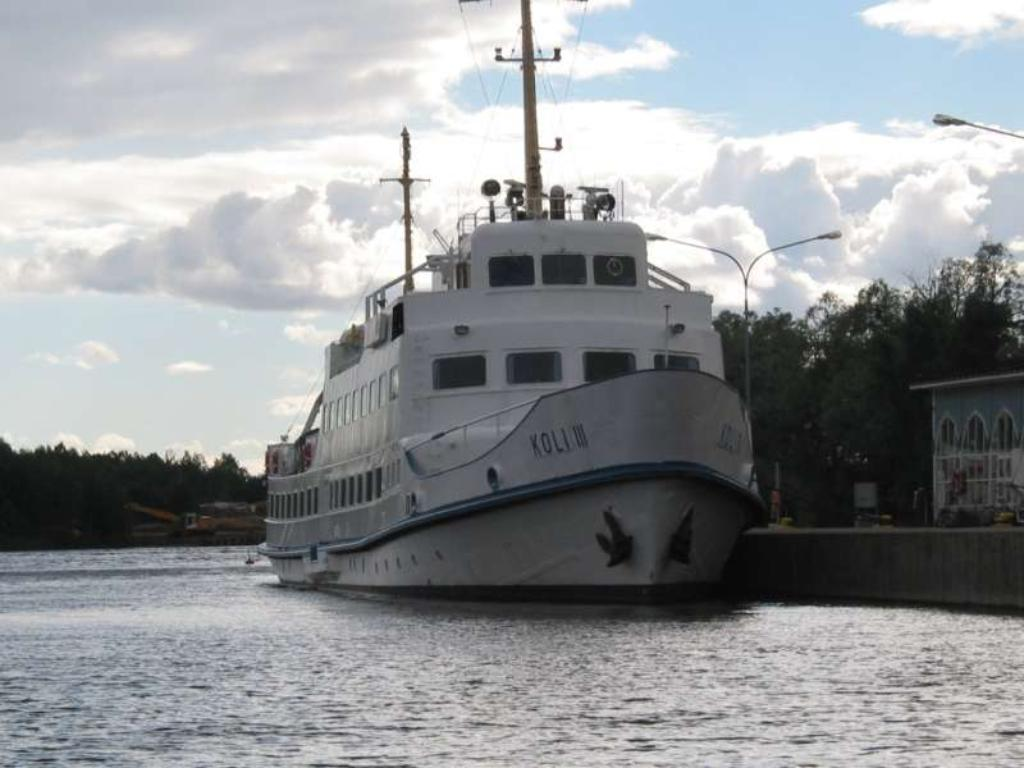PassengerShip: (260, 174, 770, 610)
